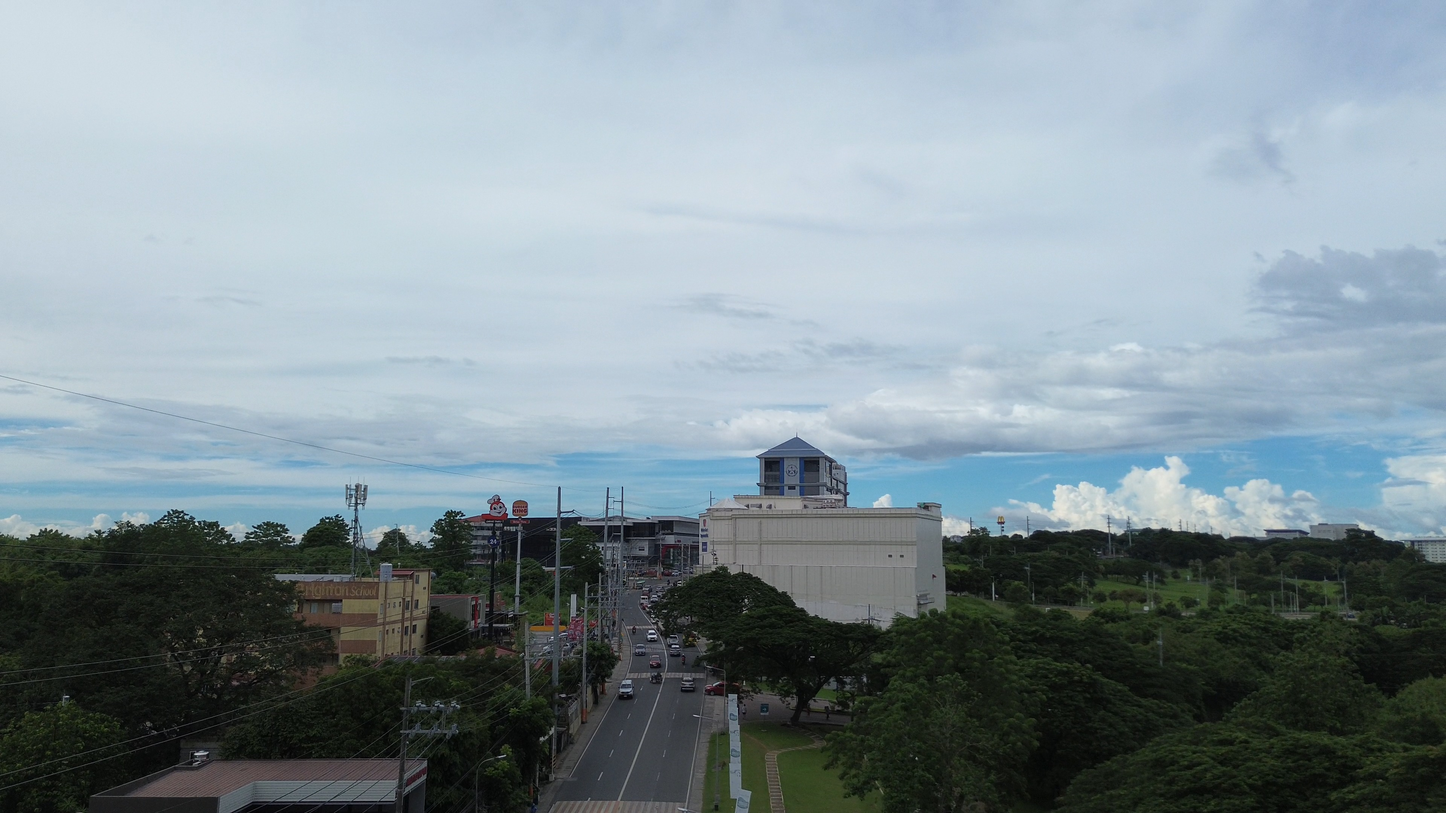car: (649, 656, 662, 668)
vehicle: (704, 681, 740, 696), (618, 679, 634, 699), (680, 678, 696, 691), (646, 629, 659, 642), (649, 672, 663, 684), (633, 644, 647, 656), (668, 644, 682, 656), (668, 634, 680, 643)
